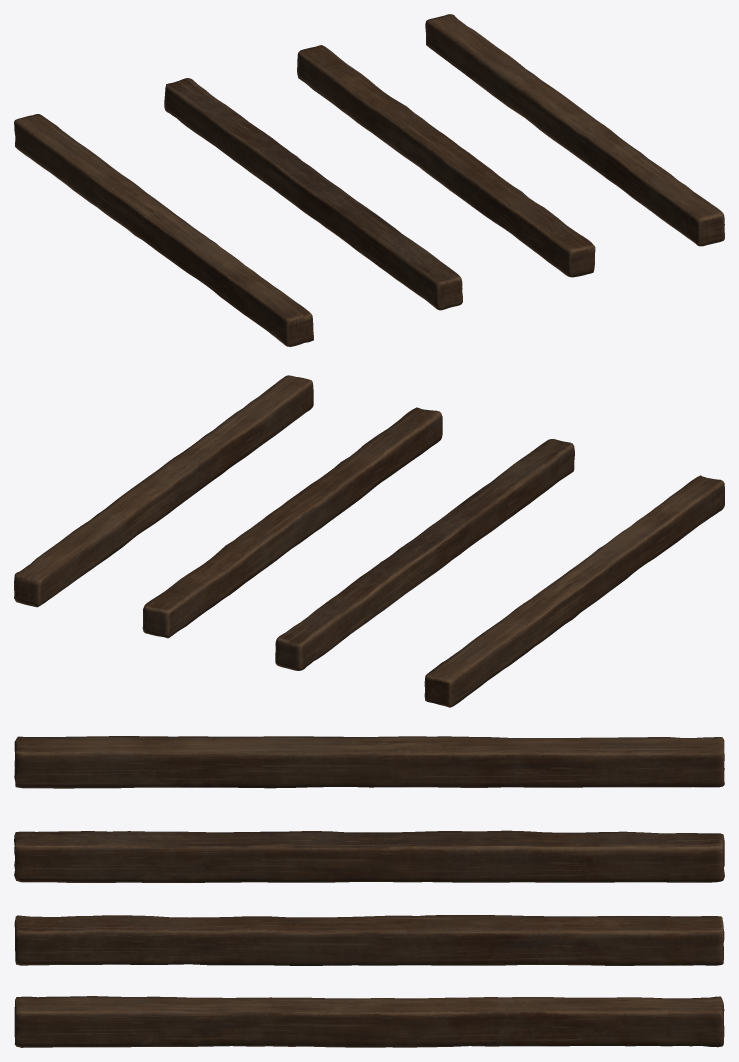
The model's file is sm_wooden_plank_pack_vol_01_all.fbx.
The picture shows the model from 3 angles, top to bottom: view 1: azimuth 30°, elevation 25°; view 2: azimuth 150°, elevation 25°; view 3: azimuth 270°, elevation 25°; orthographic projection. The views are drawn at different scales.
Visible parts, largest first — view 1: SM_Wooden_Plank_Vol_01_01, SM_Wooden_Plank_Vol_01_04, SM_Wooden_Plank_Vol_01_02, SM_Wooden_Plank_Vol_01_03; view 2: SM_Wooden_Plank_Vol_01_01, SM_Wooden_Plank_Vol_01_04, SM_Wooden_Plank_Vol_01_02, SM_Wooden_Plank_Vol_01_03; view 3: SM_Wooden_Plank_Vol_01_04, SM_Wooden_Plank_Vol_01_03, SM_Wooden_Plank_Vol_01_01, SM_Wooden_Plank_Vol_01_02.
Part boxes in pixels (box(x1,y1,x2,y2)): SM_Wooden_Plank_Vol_01_01: box(425, 14, 724, 246); SM_Wooden_Plank_Vol_01_04: box(14, 114, 313, 346); SM_Wooden_Plank_Vol_01_02: box(297, 45, 595, 277); SM_Wooden_Plank_Vol_01_03: box(164, 78, 462, 310); SM_Wooden_Plank_Vol_01_01: box(14, 375, 313, 607); SM_Wooden_Plank_Vol_01_04: box(424, 475, 724, 707); SM_Wooden_Plank_Vol_01_02: box(142, 407, 442, 638); SM_Wooden_Plank_Vol_01_03: box(275, 439, 574, 670); SM_Wooden_Plank_Vol_01_04: box(14, 736, 724, 788); SM_Wooden_Plank_Vol_01_03: box(14, 830, 724, 882); SM_Wooden_Plank_Vol_01_01: box(14, 996, 724, 1047); SM_Wooden_Plank_Vol_01_02: box(14, 915, 724, 965).
Size of the model in its own units: 324 by 20.21 by 352.
Materials: 1 (1 with a texture image).
